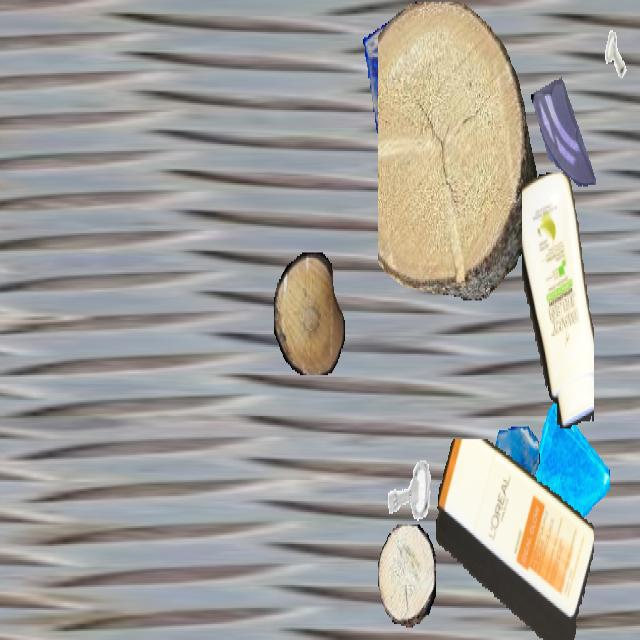glass: (516, 400, 610, 567), (363, 2, 455, 165), (530, 68, 600, 192), (480, 427, 540, 533)
metal: (435, 165, 493, 268), (382, 441, 438, 540), (597, 21, 635, 89)
plastic: (436, 439, 594, 638), (522, 172, 594, 428)
wood: (378, 2, 536, 300), (274, 252, 344, 374), (378, 524, 436, 628)
